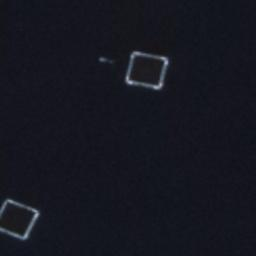square_solid: (120, 47, 172, 93), (1, 193, 41, 243)
